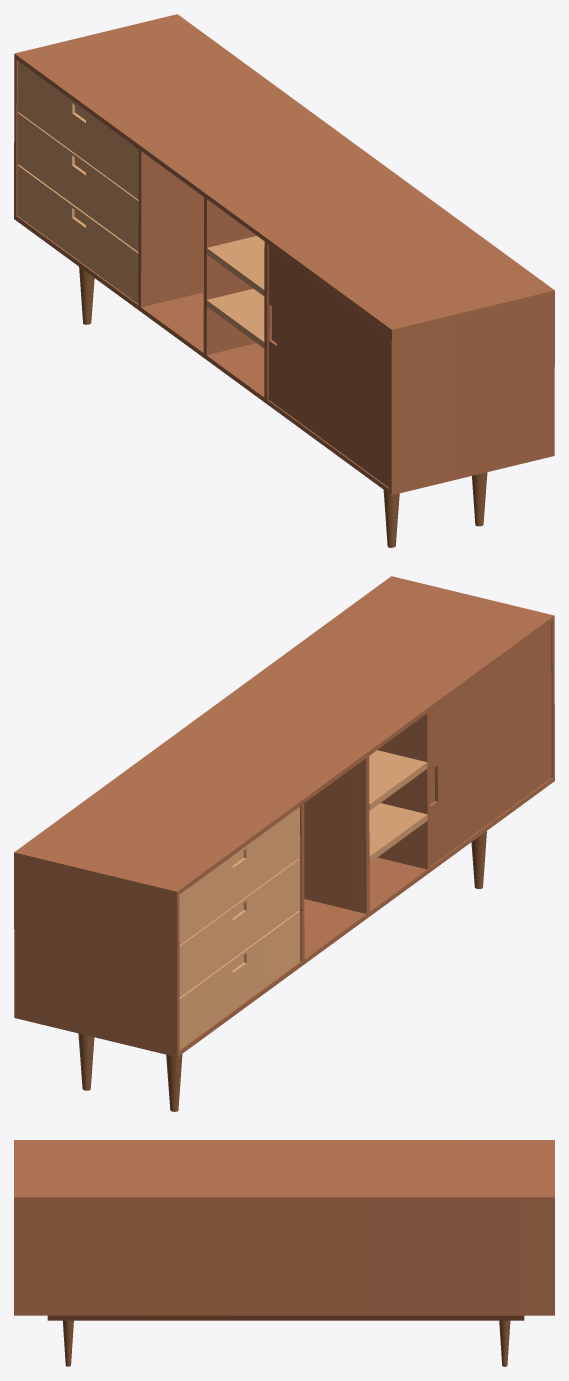
The model's file is Tvunit.fbx.
3 renders of one model, top to bottom at view 1: azimuth 30°, elevation 25°; view 2: azimuth 150°, elevation 25°; view 3: azimuth 270°, elevation 25°, orthographic. The views are drawn at different scales.
Visible parts, largest first — view 1: Tvunit; view 2: Tvunit; view 3: Tvunit.
Boxes of the visible parts, x1,y1,x2,y2 form: Tvunit: [14, 14, 554, 547]; Tvunit: [14, 576, 554, 1111]; Tvunit: [14, 1140, 554, 1366].
Size of the model in its own units: 144 by 214 by 577.
Materials: 1 (1 with a texture image).
